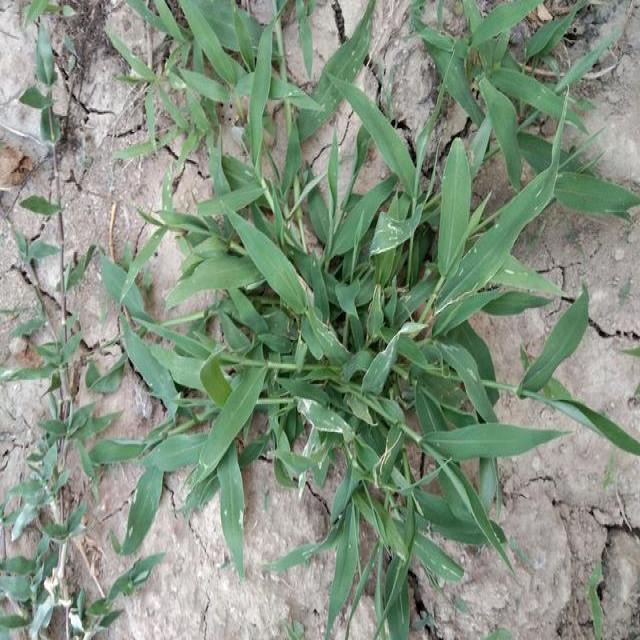weed: (167, 169, 640, 560), (220, 225, 498, 638), (20, 245, 153, 640), (442, 1, 603, 210), (178, 5, 315, 160), (21, 11, 103, 252)
